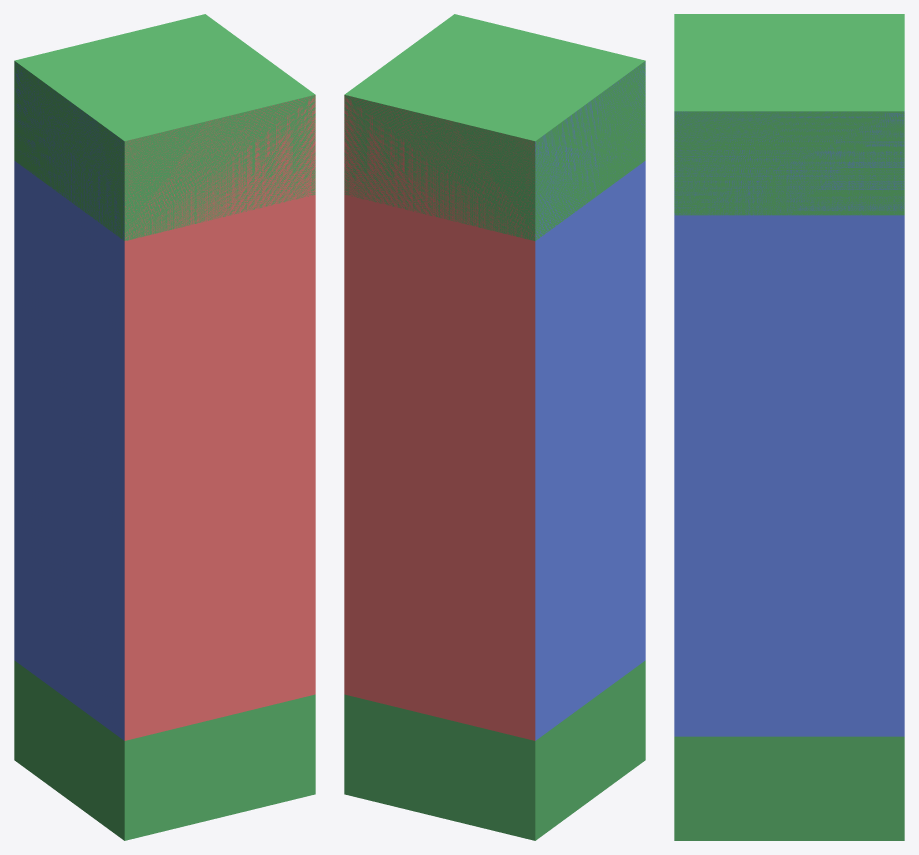
File: y_init_and_meas_bridge.pipe_length_1_0.dae
The picture shows the model from 3 angles, left to right: view 1: azimuth 30°, elevation 25°; view 2: azimuth 150°, elevation 25°; view 3: azimuth 270°, elevation 25°; orthographic projection. The views are drawn at different scales.
Visible parts, largest first — view 1: ZXO (×4), Y (×5), ZXX (×2); view 2: ZXO (×4), Y (×5), ZXX (×2); view 3: ZXO (×2), Y (×3), ZXX.
Part boxes in pixels (x1=…): ZXO (×4): x1=14, y1=64, x2=315, y2=740; Y (×5): x1=14, y1=14, x2=315, y2=840; ZXX (×2): x1=14, y1=261, x2=315, y2=540; ZXO (×4): x1=344, y1=62, x2=645, y2=740; Y (×5): x1=344, y1=14, x2=645, y2=840; ZXX (×2): x1=344, y1=261, x2=645, y2=540; ZXO (×2): x1=674, y1=111, x2=904, y2=736; Y (×3): x1=674, y1=14, x2=904, y2=840; ZXX: x1=674, y1=319, x2=904, y2=528.
Size of the model in its own units: 1 by 1 by 3.5.
